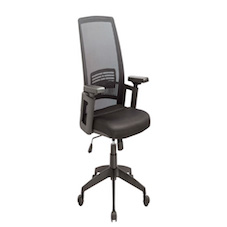chair: (57, 6, 168, 225)
